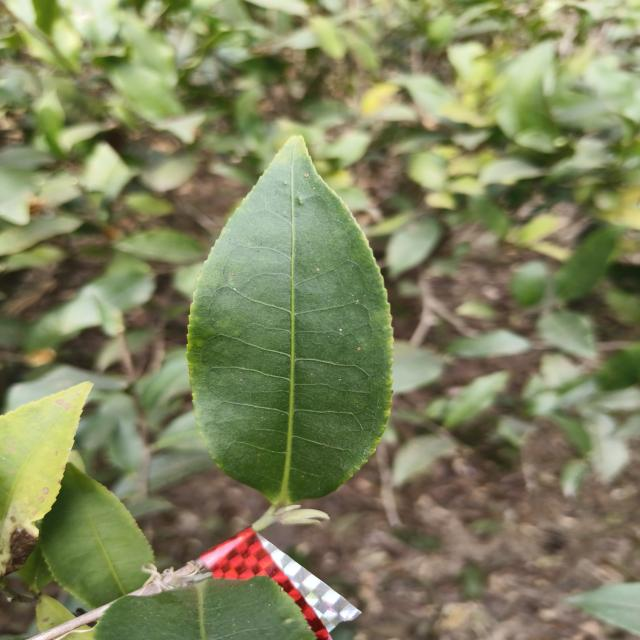Leaf: (187, 136, 392, 508), (0, 382, 93, 575), (39, 462, 154, 608), (95, 577, 316, 640), (51, 269, 155, 335), (4, 365, 127, 413), (555, 225, 622, 300), (567, 582, 640, 635), (444, 372, 509, 428), (386, 216, 441, 277), (392, 435, 455, 486), (115, 228, 204, 264), (537, 310, 596, 358), (446, 329, 531, 357)
